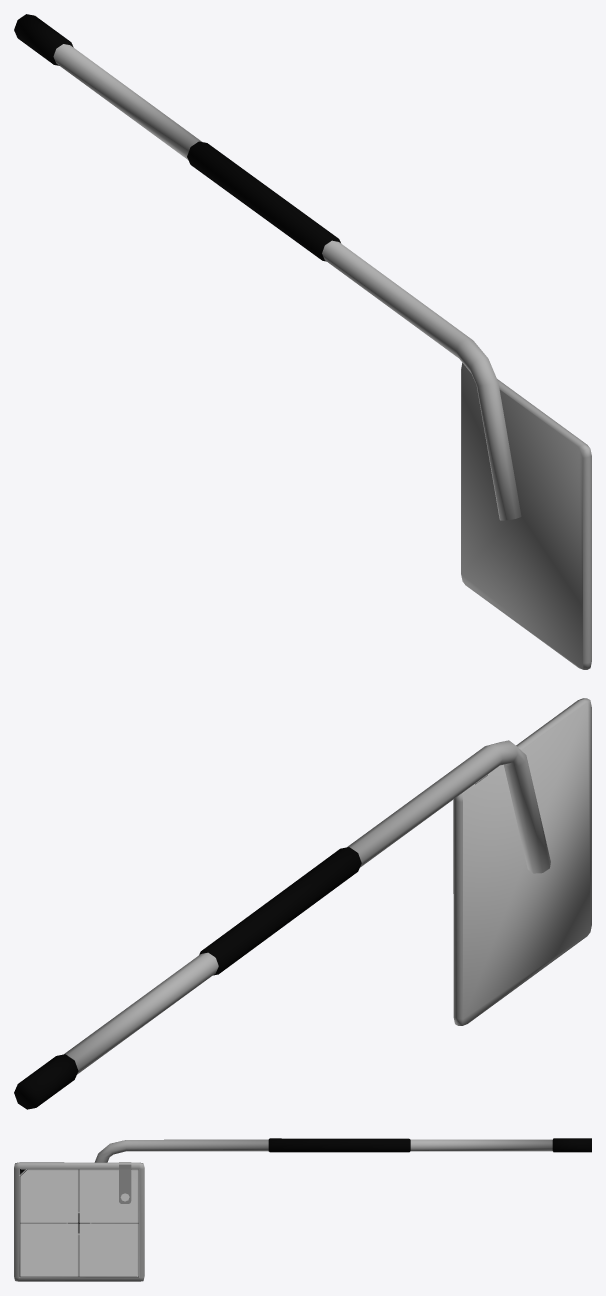
Rendered from VetRadioCassette.glb.
3 renders of one model, top to bottom at view 1: azimuth 30°, elevation 25°; view 2: azimuth 150°, elevation 25°; view 3: azimuth 270°, elevation 25°, orthographic. The views are drawn at different scales.
Parts seen in each view (by area): view 1: Cassette, CassetteHandle; view 2: Cassette, CassetteHandle; view 3: Cassette, CassetteHandle, Indicator.
Boxes of the visible parts, x1=… form: Cassette: x1=461, y1=363, x2=591, y2=669; CassetteHandle: x1=14, y1=14, x2=521, y2=520; Cassette: x1=453, y1=698, x2=591, y2=1025; CassetteHandle: x1=14, y1=740, x2=550, y2=1109; Cassette: x1=14, y1=1162, x2=144, y2=1281; CassetteHandle: x1=94, y1=1138, x2=591, y2=1162; Indicator: x1=119, y1=1162, x2=131, y2=1203.
Bounding box in the file's own units: 0.0675 × 0.5013 × 1.89.
Materials: 3 (1 with a texture image).
